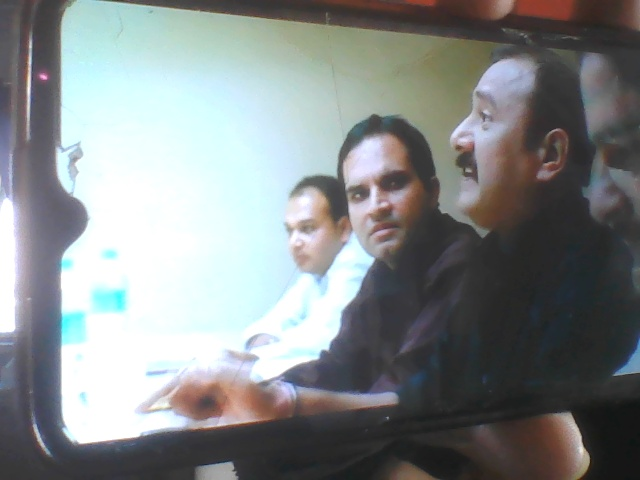fake: (331, 93, 455, 269)
